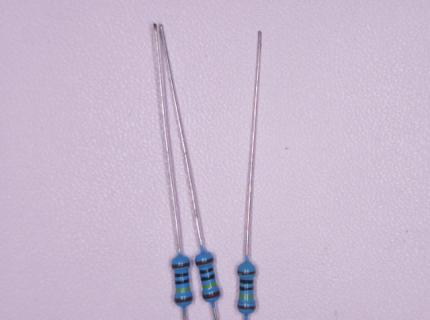Black band: (199, 266, 214, 275), (201, 274, 216, 282), (174, 272, 189, 278), (175, 279, 190, 285), (239, 279, 254, 284), (239, 286, 254, 291)
Brown band: (195, 257, 214, 267), (202, 291, 221, 300), (171, 262, 190, 270), (175, 296, 193, 304), (237, 305, 256, 311), (237, 270, 256, 276)
Yellow band: (203, 282, 217, 289), (175, 287, 191, 293), (239, 294, 254, 299)
